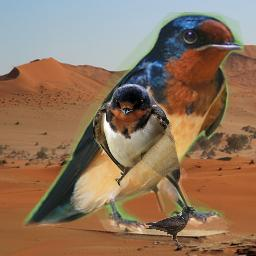Crow: (145, 206, 197, 248)
Swallow: (22, 12, 244, 234), (93, 84, 191, 212)
